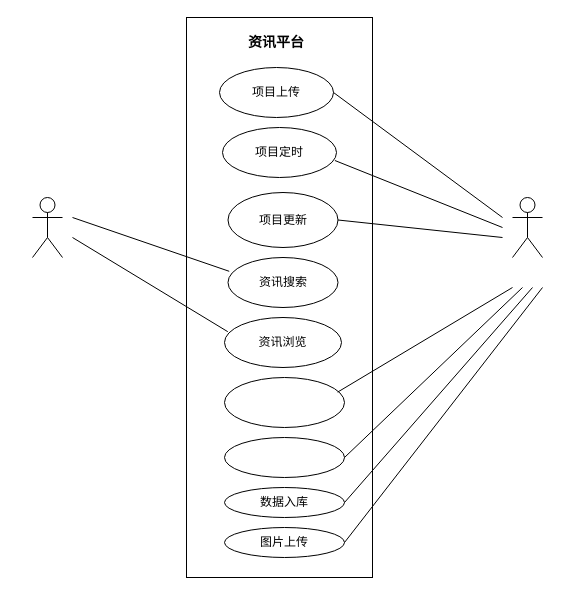
This 574x603 diagram has some shape labels left out. Here are the shapes that lost their labels. From the top down, the box of each, then its label:
(32, 196, 62, 258): 平台访问者
(512, 196, 542, 258): 平台管理员
(224, 376, 344, 428): 采集脚本
(224, 436, 344, 478): 随机代理
